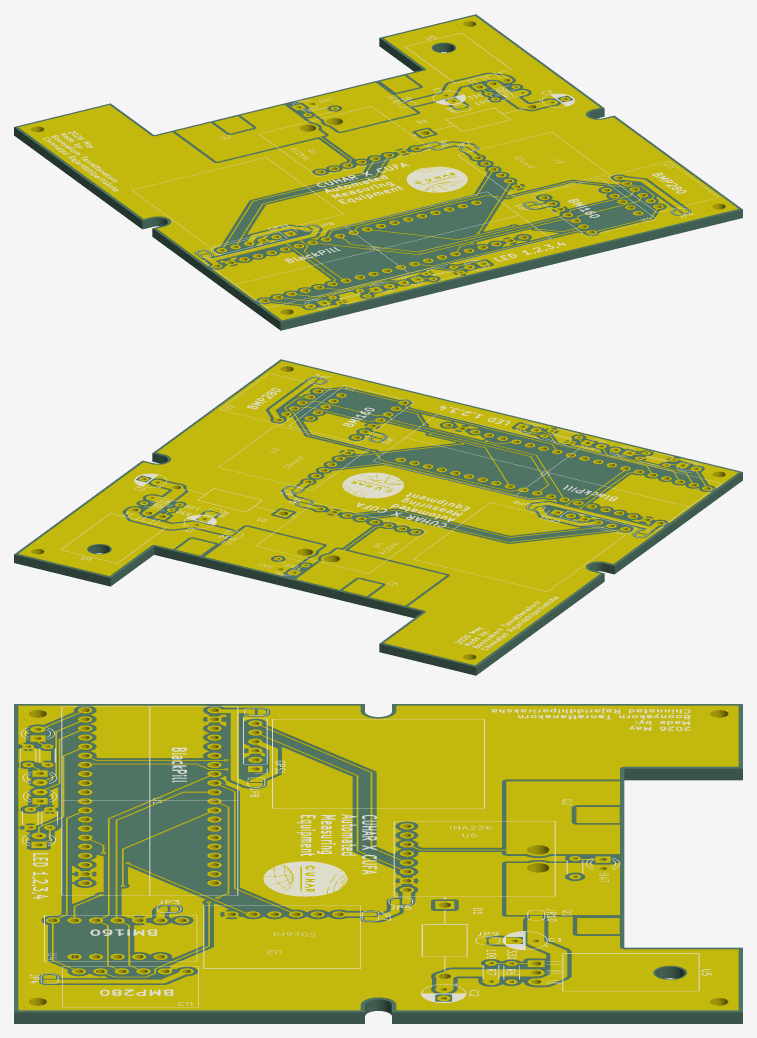
The model's file is ame.glb.
3 renders of one model, top to bottom at view 1: azimuth 30°, elevation 25°; view 2: azimuth 150°, elevation 25°; view 3: azimuth 270°, elevation 25°, orthographic. The views are drawn at different scales.
Parts seen in each view (by area): view 1: =>[0:1:1:2], =>[0:1:1:6], =>[0:1:1:5]; view 2: =>[0:1:1:2], =>[0:1:1:6], =>[0:1:1:5]; view 3: =>[0:1:1:2], =>[0:1:1:6], =>[0:1:1:5].
Part boxes in pixels (left/top/right/bottom): =>[0:1:1:2]: left=18, top=16, right=738, bottom=320; =>[0:1:1:6]: left=14, top=14, right=742, bottom=330; =>[0:1:1:5]: left=43, top=33, right=718, bottom=309; =>[0:1:1:2]: left=18, top=361, right=738, bottom=665; =>[0:1:1:6]: left=14, top=359, right=742, bottom=675; =>[0:1:1:5]: left=60, top=373, right=721, bottom=650; =>[0:1:1:2]: left=18, top=705, right=738, bottom=1010; =>[0:1:1:6]: left=14, top=704, right=742, bottom=1023; =>[0:1:1:5]: left=20, top=706, right=711, bottom=1007.
Bounding box in the file's own units: 0.086 × 0.00162 × 0.086.
